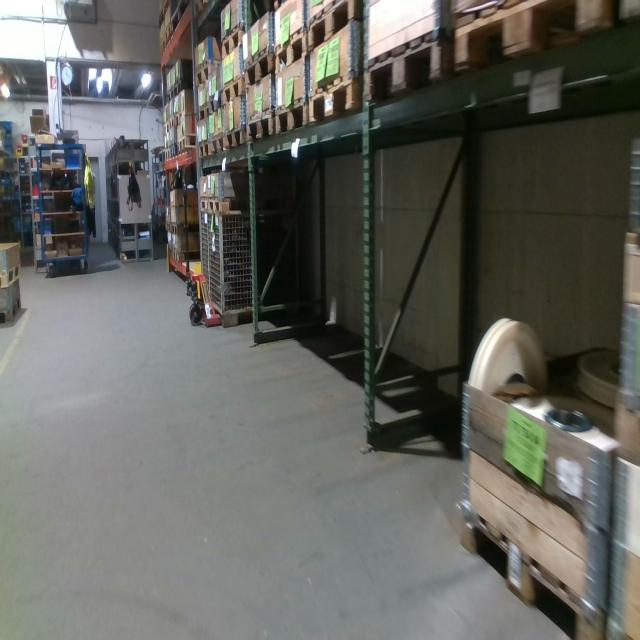pallet: (453, 494, 605, 636), (451, 1, 615, 63), (365, 32, 465, 108), (307, 76, 366, 131), (307, 2, 367, 52), (275, 25, 312, 79), (275, 96, 309, 144), (247, 46, 275, 91), (209, 196, 258, 219), (219, 25, 251, 60), (249, 111, 277, 146), (223, 72, 249, 105), (195, 57, 217, 91), (226, 122, 247, 154), (0, 300, 24, 328), (208, 131, 225, 163), (170, 246, 204, 262), (178, 133, 196, 159), (1, 265, 21, 288), (193, 0, 216, 20), (174, 76, 191, 102), (170, 220, 199, 232), (195, 138, 208, 163), (195, 103, 209, 122), (176, 112, 192, 127), (165, 23, 173, 49), (198, 194, 208, 212), (159, 37, 166, 60), (161, 116, 167, 138), (166, 86, 174, 102), (169, 141, 175, 159), (162, 148, 169, 163), (162, 219, 170, 227), (172, 115, 174, 134)
pallet_truck: (172, 167, 224, 329)
stillage: (206, 208, 306, 329), (197, 205, 209, 308)
